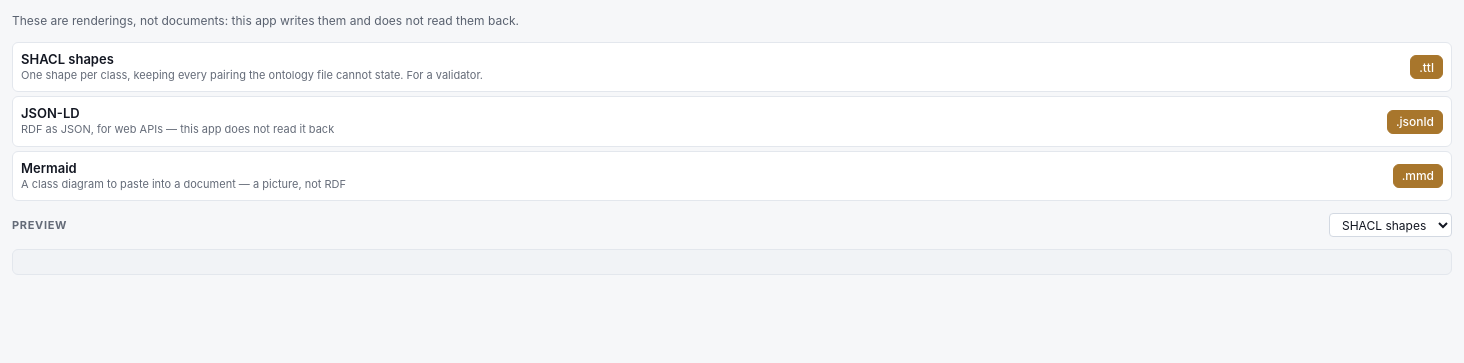
Test case: exporting › previews the diagram when it is chosen
Select "Mermaid" in the dropdown named "Preview format" at {"x": 1390, "y": 225}, box [1329, 213, 1452, 237]
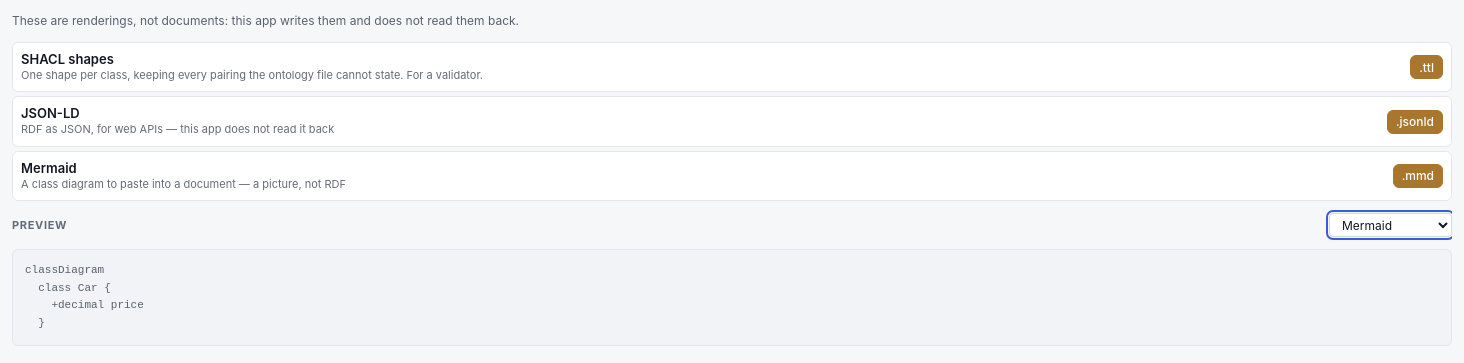
Expected: the text with test id "export-preview" shows "classDiagram", [25, 264, 144, 329]
Expected: the text with test id "export-preview" shows "class Car", [25, 264, 144, 329]
